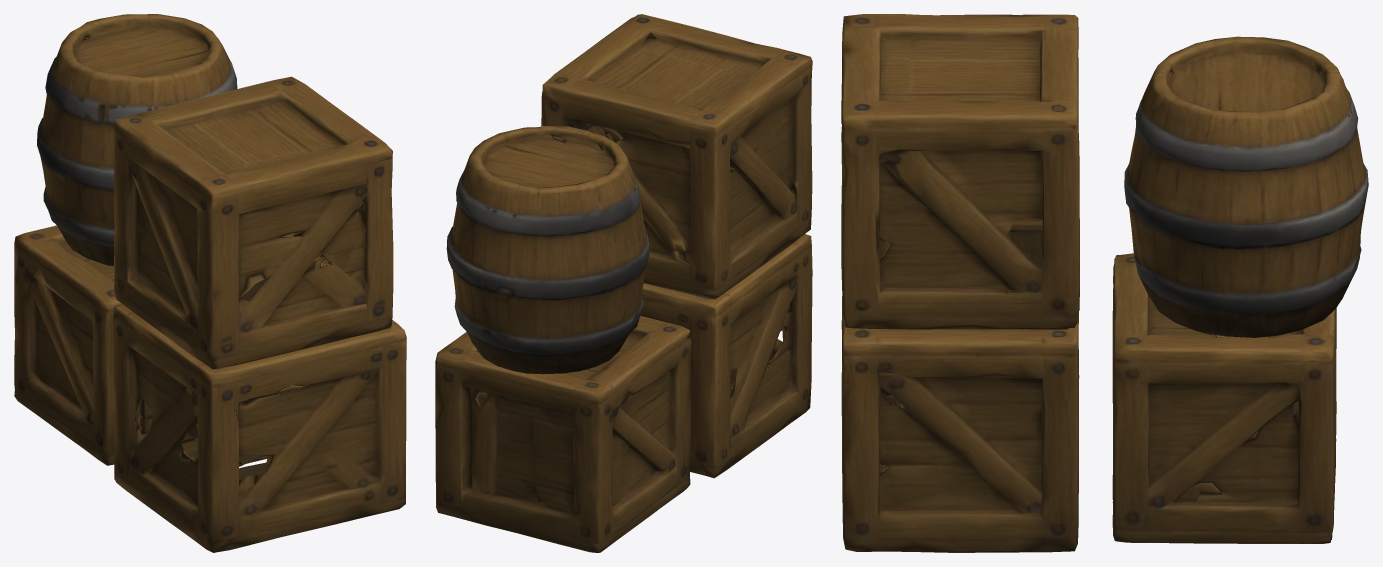
File: barrels_crates.glb
The picture shows the model from 3 angles, left to right: view 1: azimuth 30°, elevation 25°; view 2: azimuth 150°, elevation 25°; view 3: azimuth 270°, elevation 25°; orthographic projection. The views are drawn at different scales.
Visible parts, largest first — view 1: geometry_0; view 2: geometry_0; view 3: geometry_0.
Boxes of the visible parts, x1,y1,x2,y2 form: geometry_0: (14, 14, 406, 552); geometry_0: (435, 14, 812, 552); geometry_0: (841, 14, 1368, 552).
Size of the model in its own units: 0.5107 by 0.9039 by 1.
1 material, 1 textured.
